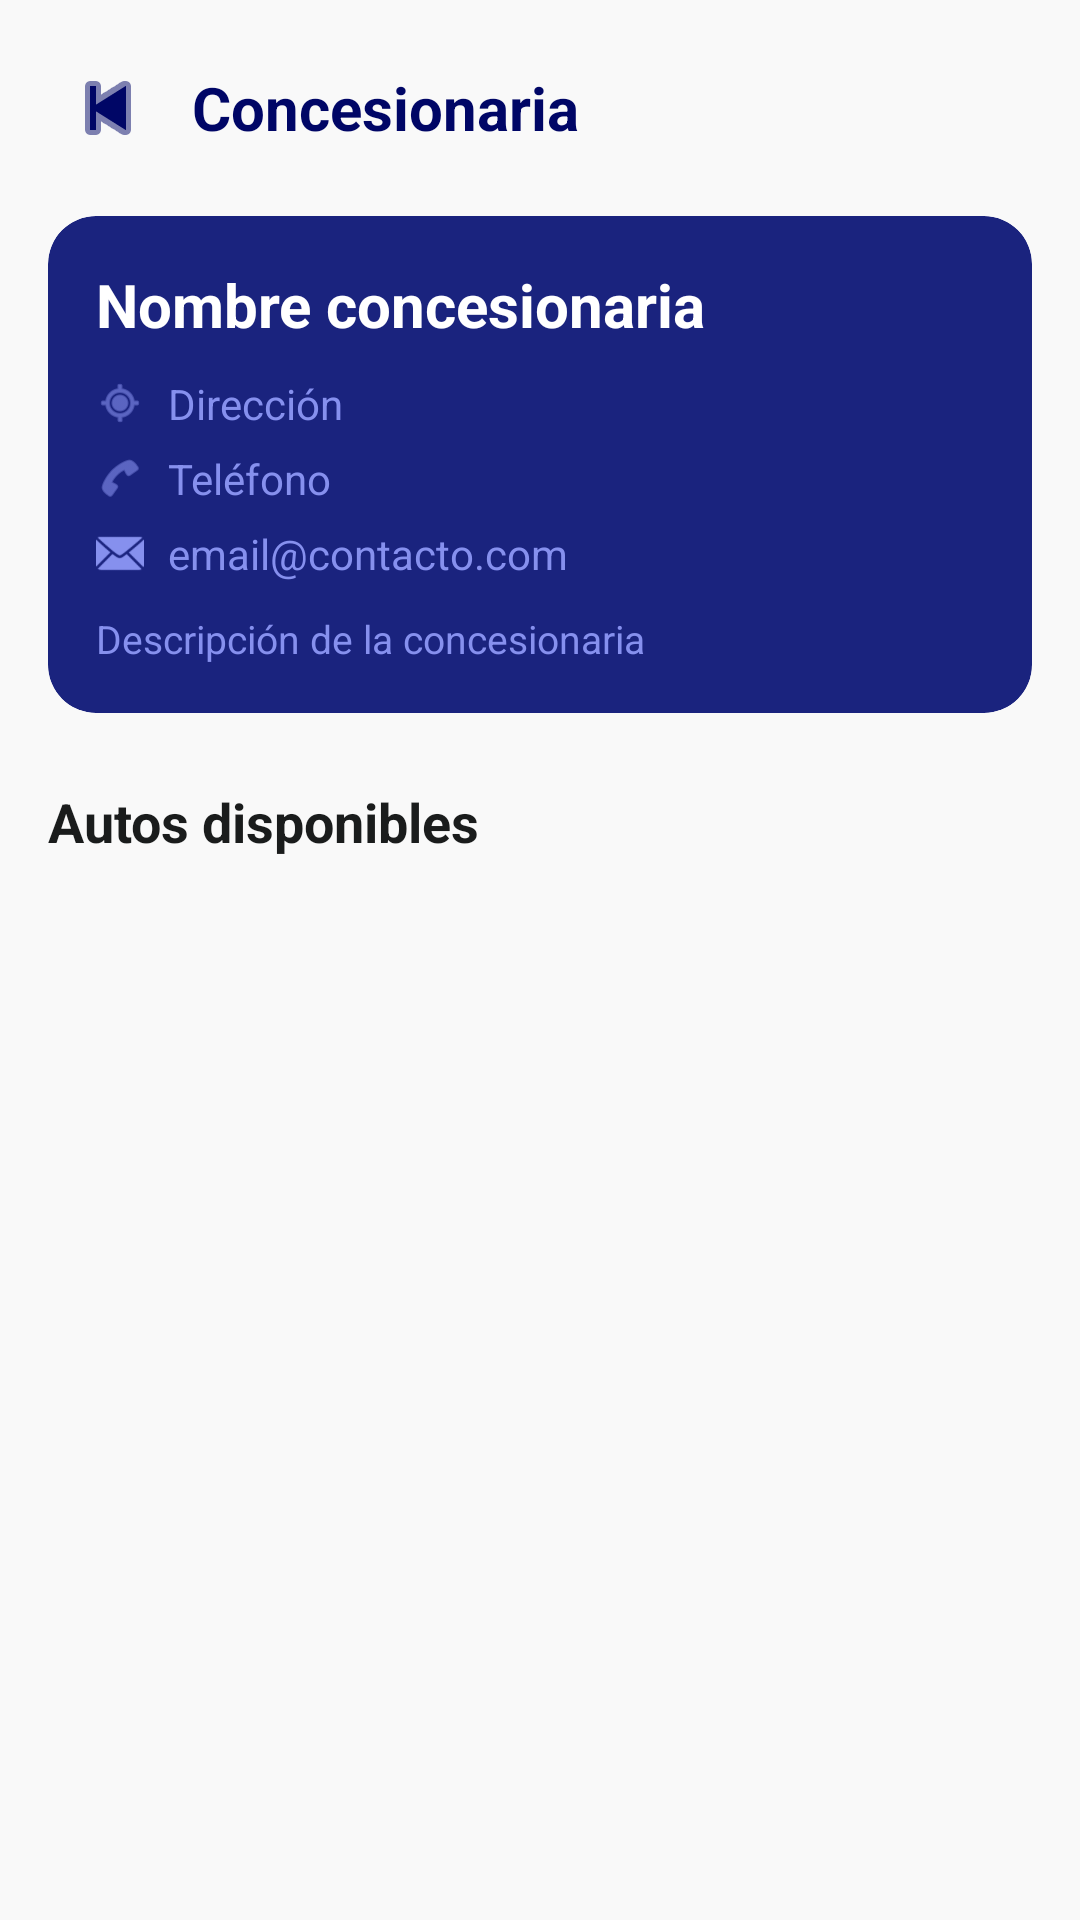

Locate icon controls on the screen. Image size 1080px x 1920px, boxes as bbox(x1, y1, x2, y2).
Volver: bbox(85, 81, 131, 135)
